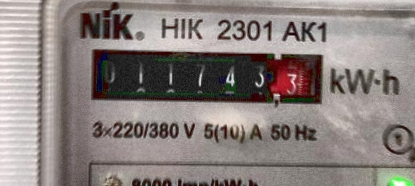0: (102, 58, 116, 86)
1: (163, 58, 175, 86), (134, 58, 144, 85)
3: (252, 62, 266, 89), (283, 71, 297, 96)
4: (222, 62, 236, 89)
7: (192, 58, 207, 87)
screen: (80, 38, 333, 115)
